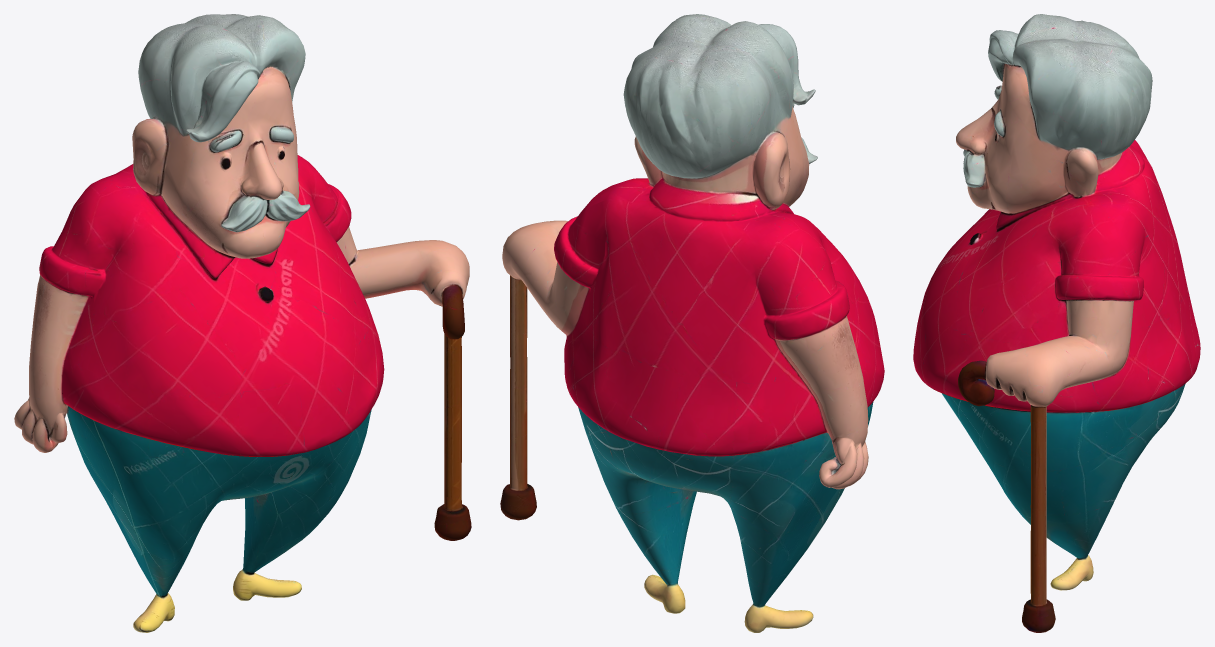
File: grandpa_cane.glb
3 views of the same model, side by side, from view 1: azimuth 30°, elevation 25°; view 2: azimuth 150°, elevation 25°; view 3: azimuth 270°, elevation 25° (orthographic). The views are drawn at different scales.
Bounding box in the file's own units: 1.36 × 1.9 × 0.919.
Materials: 1 (1 with a texture image).
